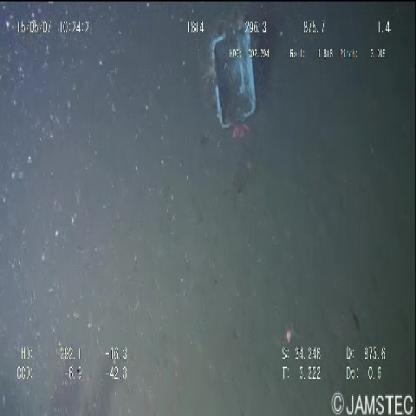Rác: (206, 10, 262, 144)
